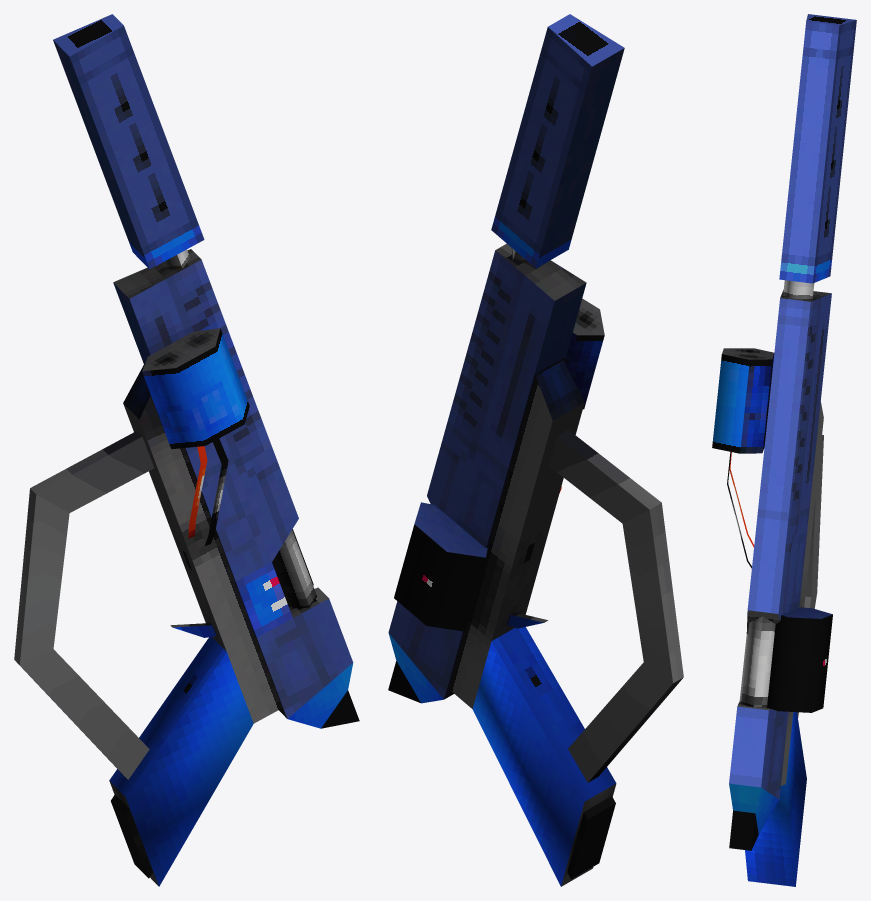
File: exo_red.gltf
3 renders of one model, left to right at view 1: azimuth 30°, elevation 25°; view 2: azimuth 150°, elevation 25°; view 3: azimuth 270°, elevation 25°, orthographic. The views are drawn at different scales.
Visible parts, largest first — view 1: pistol.001; view 2: pistol.001; view 3: pistol.001.
Part boxes in pixels (<box>): pistol.001: <box>14,14,359,886</box>; pistol.001: <box>388,14,683,886</box>; pistol.001: <box>712,14,856,886</box>.
Size of the model in its own units: 0.1606 by 0.4207 by 0.0643.
Materials: 1 (1 with a texture image).
